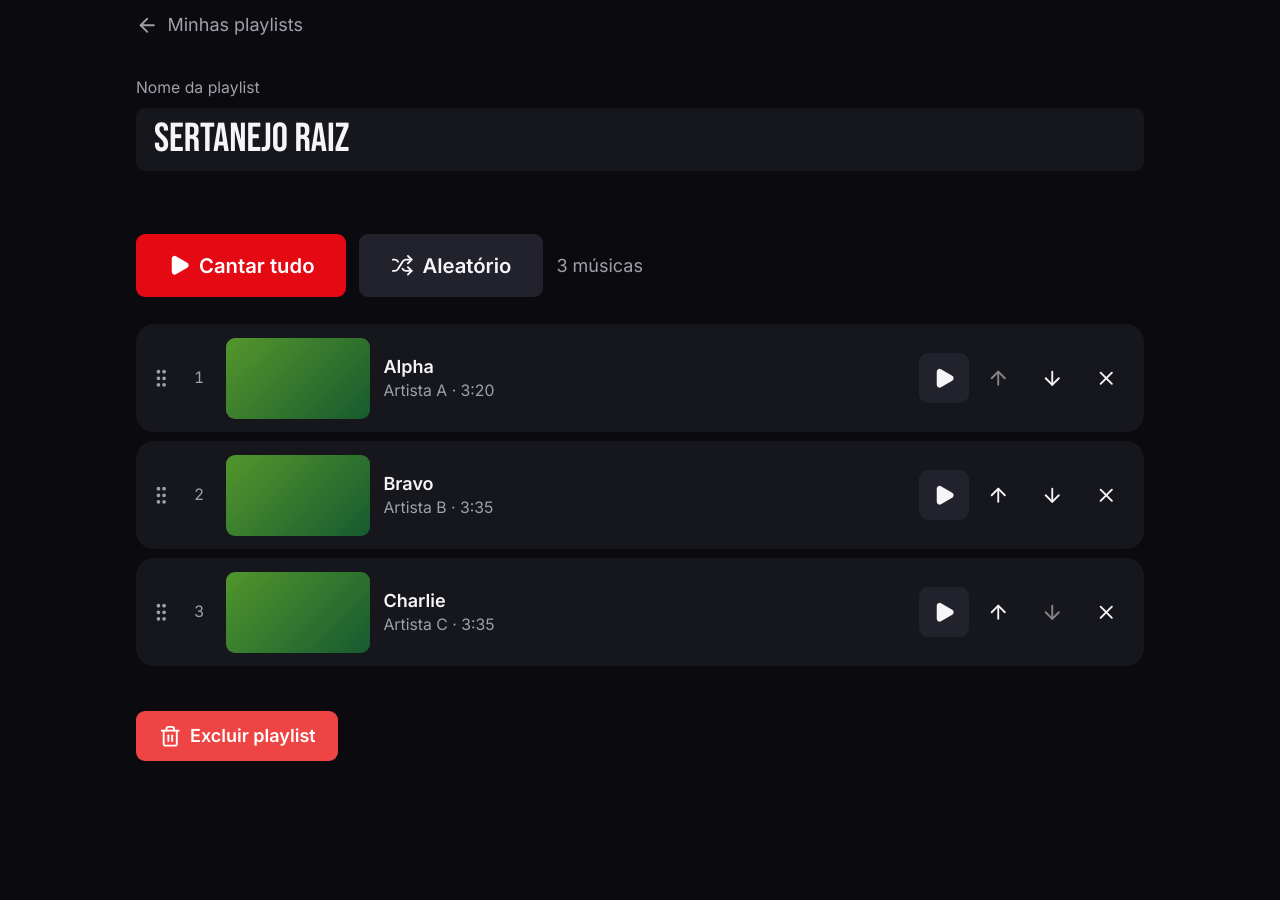
PlaylistPage › organizing › asks before taking a song out, and does nothing when the user gives up
Check: the field labelled "Nome da playlist" is shown, box [136, 108, 1144, 171]
Click the button named "Tirar Bravo da playlist". click: (1106, 495)
box: [1081, 470, 1130, 520]
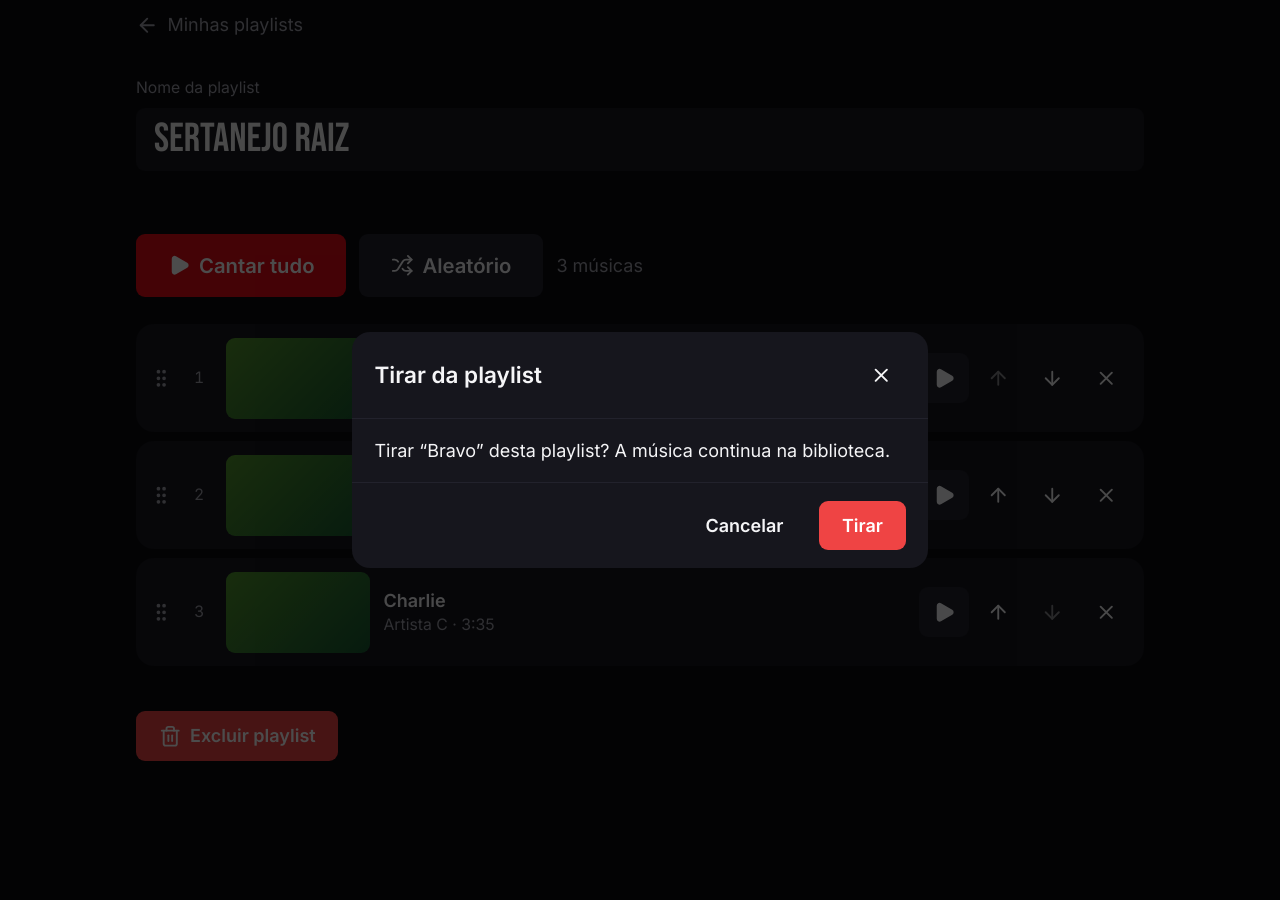
Check: the dialog "Tirar da playlist" shows "Tirar “Bravo” desta playlist? A música continua na biblioteca.", box [374, 440, 890, 460]
Click the button "Cancelar". click: (744, 525)
box: [683, 500, 806, 550]
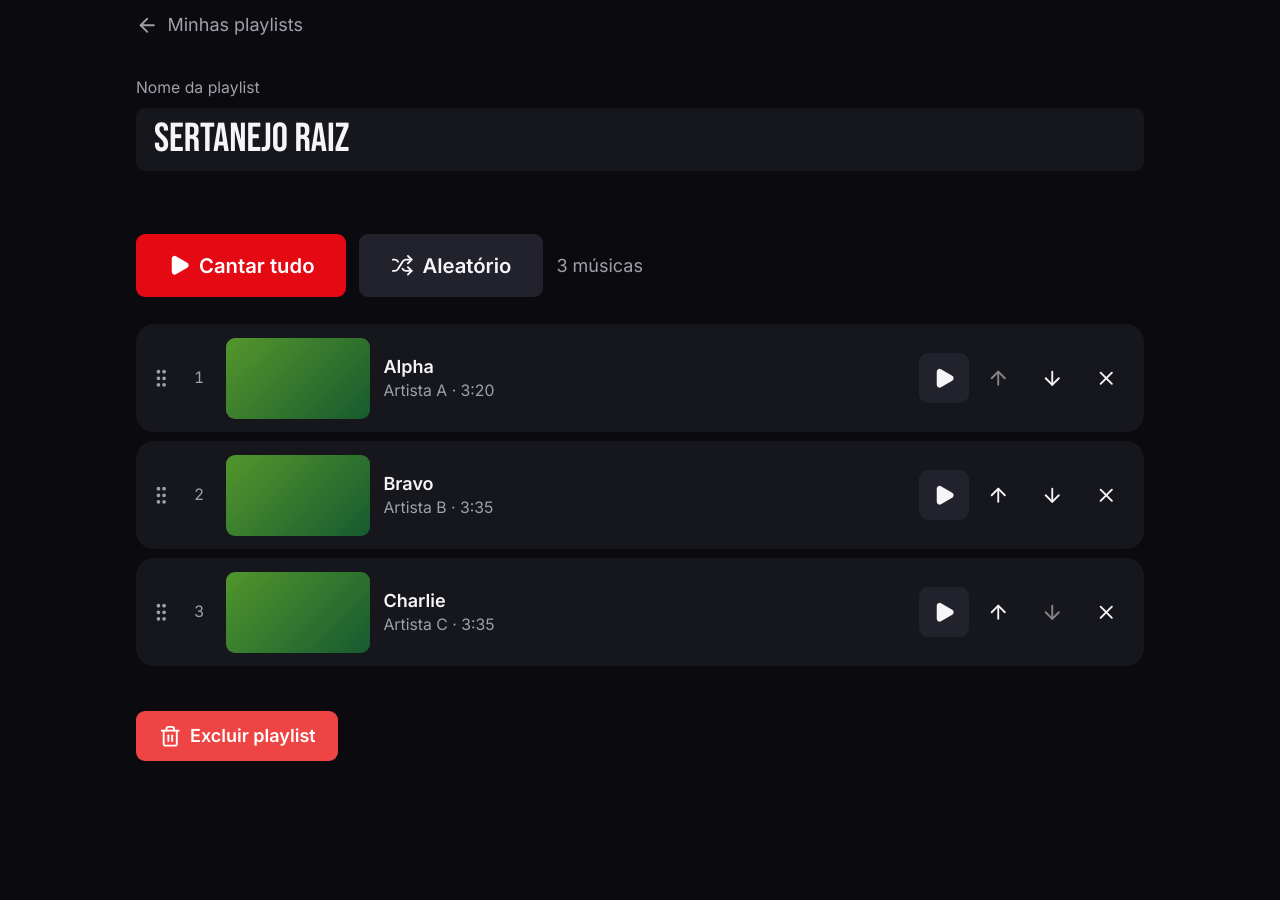
Check: the link "Bravo" is shown, box [384, 473, 434, 494]
Check: the dialog is gone
